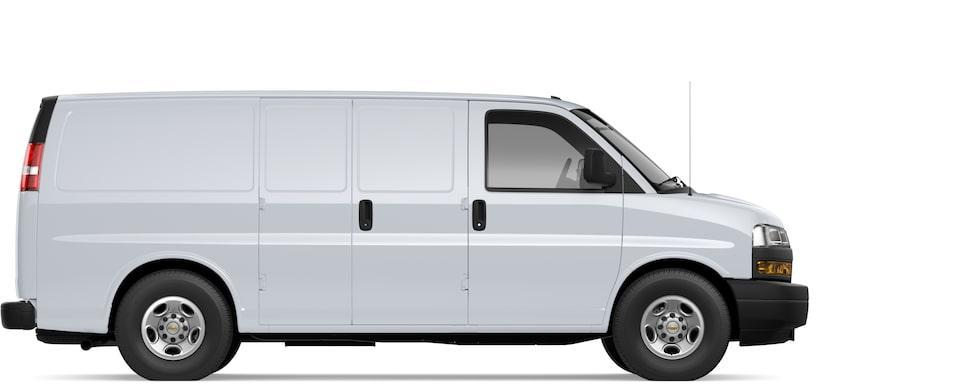car: (18, 80, 809, 382)
